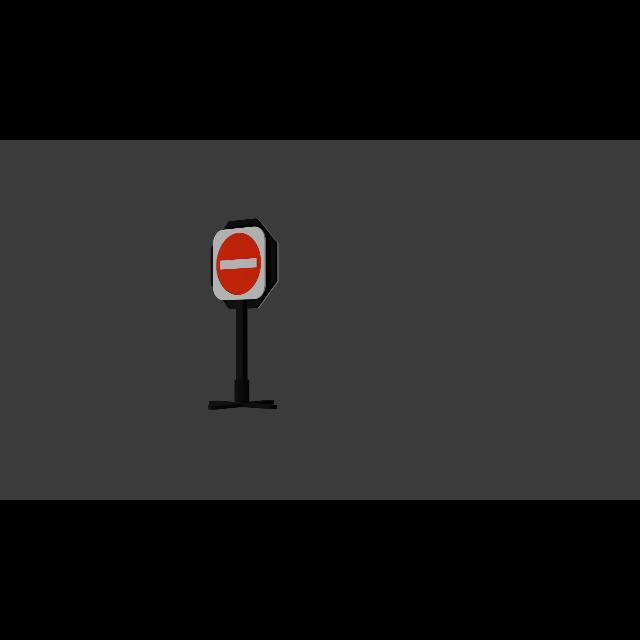sign_noentry: (217, 232, 264, 298)
